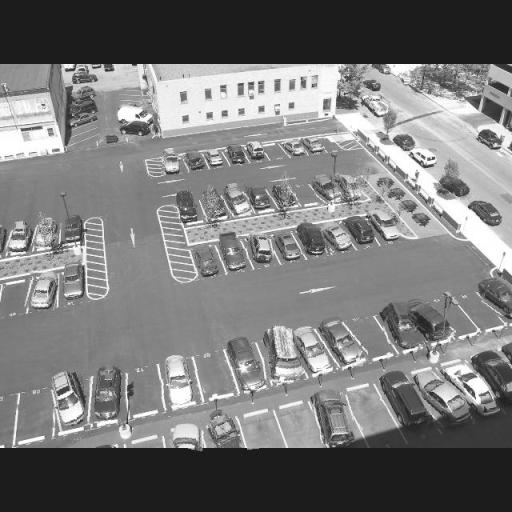busy: (420, 368, 468, 429), (261, 326, 307, 386), (308, 389, 356, 446), (85, 363, 128, 426), (452, 362, 497, 422), (48, 369, 91, 431), (380, 373, 426, 429), (224, 335, 264, 396), (322, 319, 368, 369), (382, 302, 428, 349), (408, 296, 454, 342), (161, 356, 199, 409), (294, 327, 332, 379), (481, 350, 512, 407), (26, 270, 59, 312), (205, 409, 241, 447), (480, 278, 512, 318), (165, 420, 206, 450), (296, 223, 331, 257), (58, 266, 88, 302), (245, 232, 278, 264), (219, 236, 248, 272), (312, 174, 344, 205), (222, 185, 252, 218), (368, 212, 400, 242), (32, 218, 61, 251), (322, 222, 352, 252), (6, 223, 34, 255), (273, 230, 301, 261), (469, 201, 502, 226), (346, 216, 374, 245), (194, 244, 219, 276), (336, 176, 366, 202), (202, 190, 228, 218), (270, 186, 298, 210), (441, 178, 471, 200), (60, 217, 84, 244), (177, 192, 199, 221), (248, 188, 272, 212), (411, 149, 440, 168), (476, 128, 502, 149), (162, 153, 182, 175), (183, 152, 206, 171), (362, 99, 386, 117), (246, 142, 268, 160), (284, 140, 305, 158), (204, 150, 226, 167), (393, 133, 415, 150), (226, 147, 246, 165), (303, 138, 324, 154), (104, 130, 122, 144), (364, 79, 382, 92), (373, 65, 392, 76), (396, 73, 412, 84), (409, 82, 423, 94)
free: (18, 398, 54, 434), (129, 376, 164, 410), (199, 362, 230, 392), (356, 399, 388, 428), (286, 421, 320, 446), (246, 428, 280, 449), (0, 287, 27, 313), (361, 329, 383, 346), (467, 302, 487, 318), (293, 188, 312, 204), (462, 123, 476, 138), (266, 147, 280, 157)
